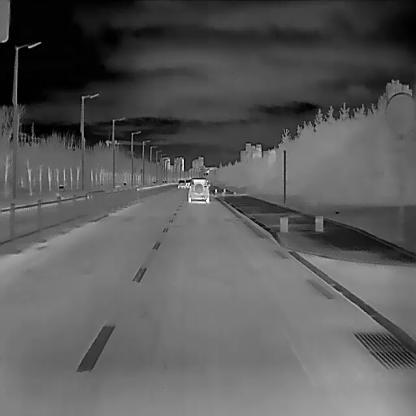car: (188, 177, 209, 202), (178, 180, 186, 188), (185, 178, 191, 187)
